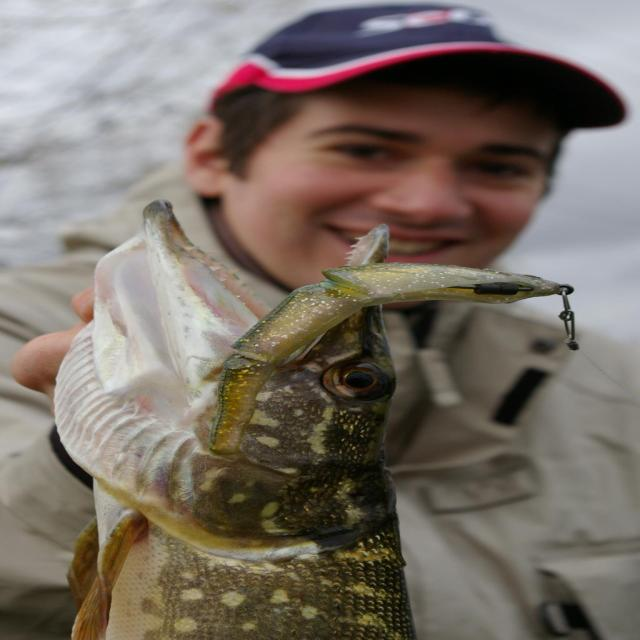nomask: (258, 90, 550, 298)
